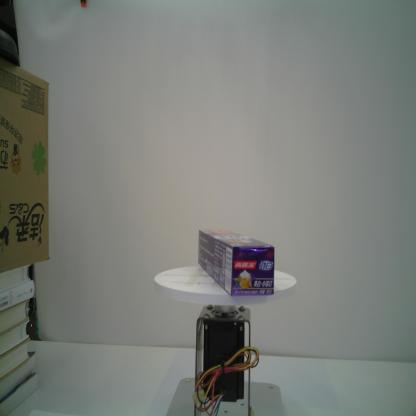Personal Hygiene: (198, 229, 276, 297)
